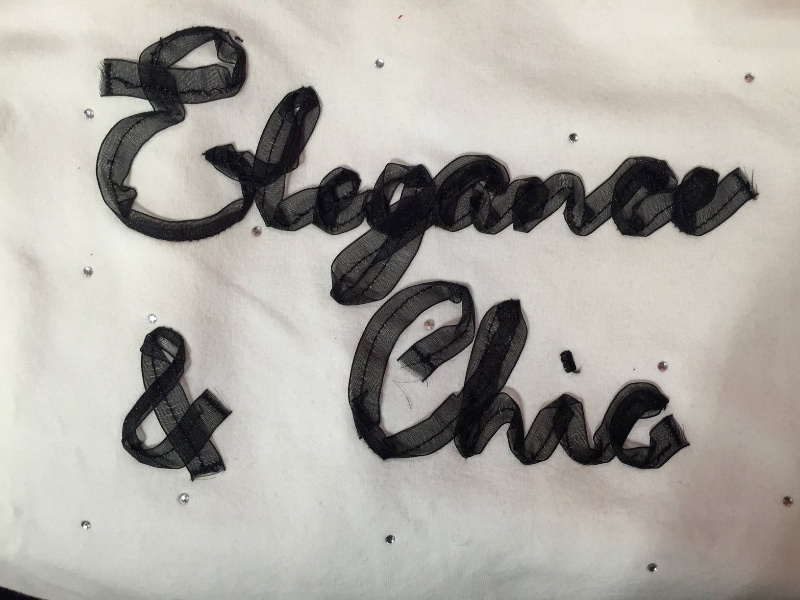text: (129, 6, 144, 383), (145, 6, 160, 383), (161, 6, 176, 383), (177, 6, 192, 383), (193, 6, 208, 383), (209, 6, 224, 383), (225, 6, 240, 383), (241, 6, 256, 383), (257, 6, 272, 383), (273, 6, 288, 383), (289, 6, 304, 383), (305, 6, 320, 383), (321, 6, 336, 383), (337, 6, 352, 383), (353, 6, 368, 383), (369, 6, 384, 383), (385, 6, 400, 383), (401, 6, 416, 383), (417, 6, 432, 383), (433, 6, 448, 383), (449, 6, 464, 383), (465, 6, 480, 383), (481, 6, 496, 383), (497, 6, 512, 383), (513, 6, 528, 383), (529, 6, 544, 383), (545, 6, 560, 383), (561, 6, 576, 383), (577, 6, 592, 383), (593, 6, 608, 383), (609, 6, 624, 383), (625, 6, 640, 383), (641, 6, 656, 383), (657, 6, 672, 383), (673, 6, 688, 383), (689, 6, 704, 383), (705, 6, 720, 383), (721, 6, 736, 383), (737, 6, 752, 383), (753, 6, 768, 383), (116, 6, 128, 383), (385, 264, 400, 475), (401, 264, 416, 475), (417, 264, 432, 475), (433, 264, 448, 475), (449, 264, 464, 475), (465, 264, 480, 475), (481, 264, 496, 475), (497, 264, 512, 475), (513, 264, 528, 475), (529, 264, 544, 475), (545, 264, 560, 475), (561, 264, 576, 475), (577, 264, 592, 475), (593, 264, 608, 475), (609, 264, 624, 475), (625, 264, 640, 475), (641, 264, 656, 475), (657, 264, 672, 475), (673, 264, 688, 475), (689, 264, 703, 475), (161, 324, 176, 485), (177, 324, 192, 485), (193, 324, 208, 485), (209, 324, 224, 485), (225, 324, 240, 485), (241, 324, 256, 485), (257, 324, 272, 485), (146, 324, 160, 485), (769, 6, 774, 383), (377, 264, 384, 475)
